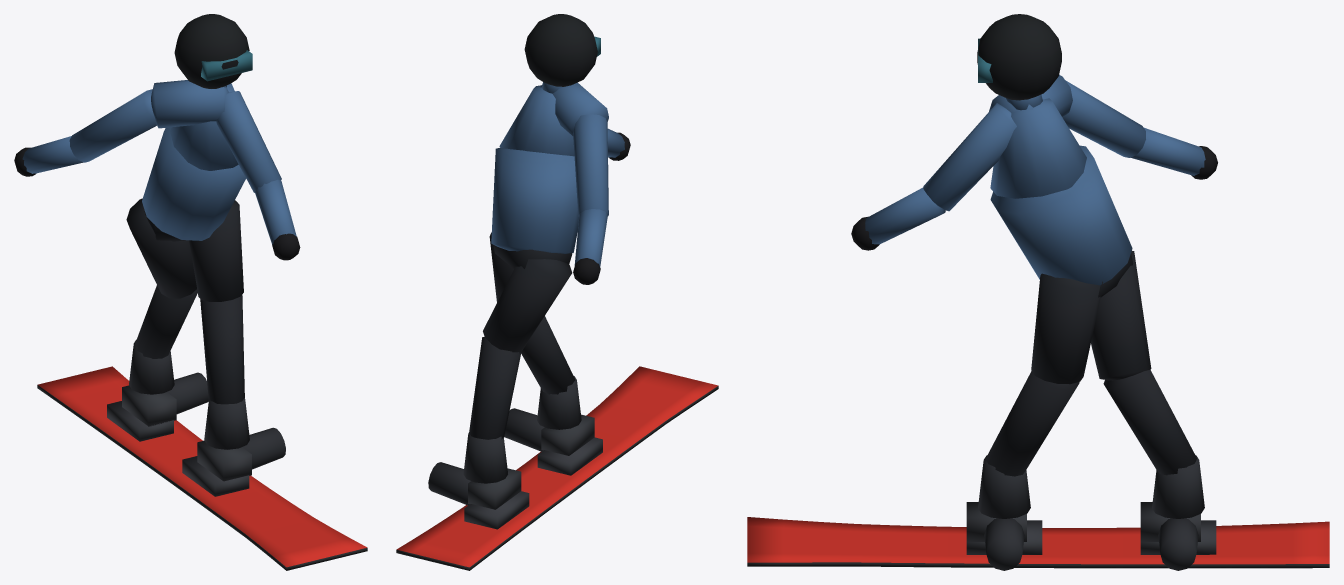
The model's file is snowboarder.glb.
3 renders of one model, left to right at view 1: azimuth 30°, elevation 25°; view 2: azimuth 150°, elevation 25°; view 3: azimuth 270°, elevation 25°, orthographic. The views are drawn at different scales.
Parts seen in each view (by area): view 1: Snowboarder; view 2: Snowboarder; view 3: Snowboarder.
Boxes of the visible parts, <box> form: Snowboarder: <box>14,14,367,570</box>; Snowboarder: <box>396,14,718,570</box>; Snowboarder: <box>747,14,1329,570</box>.
Size of the model in its own units: 0.6417 by 1.56 by 1.54.
Materials: 1 (1 with a texture image).
